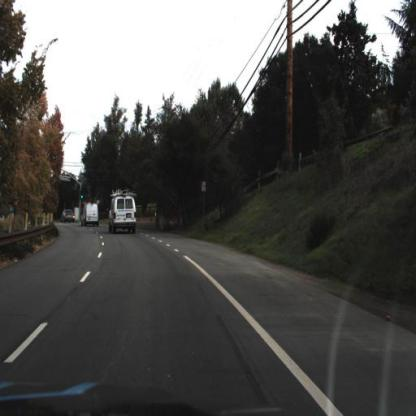car: (107, 191, 138, 231), (82, 201, 100, 224), (61, 204, 75, 221)
trafficLight-Green: (77, 189, 85, 209)
